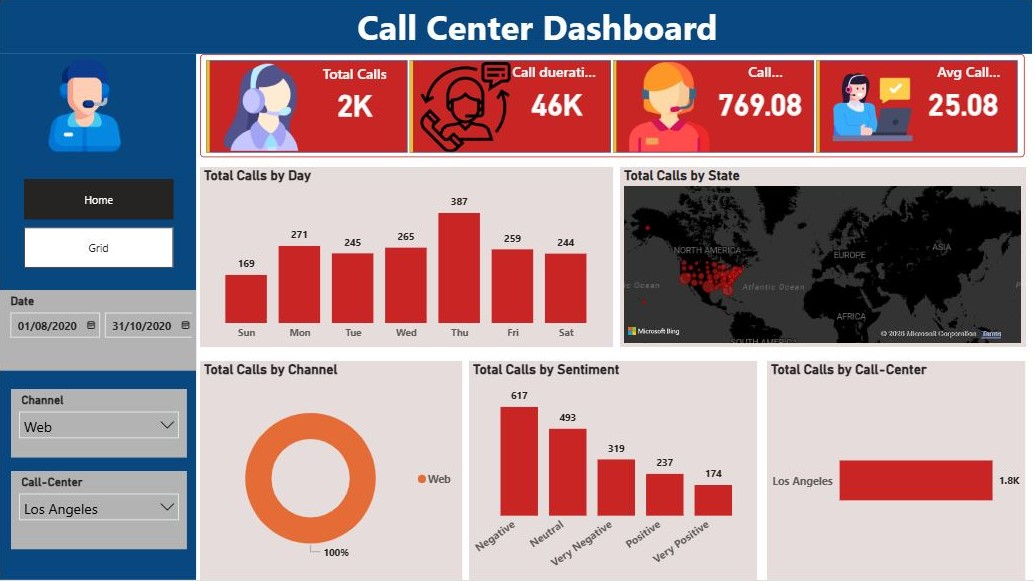

What the dashboard file says about the page in this screenshot:
{"tool":"powerbi","page":{"name":"Home","canvas":[1280,720],"ordinal":0},"visuals":[{"type":"shape","box":[0,0,1280,68.3],"z":0},{"type":"shape","box":[0,68.3,243.2,651.7],"z":1000},{"type":"cardVisual","fields":{"Data":["Call Center_Call Center.Total Calls","Call Center_Call Center.Call dueration (Min)","Call Center_Call Center.Total Call duration(Hrs)","Call Center_Call Center.Avg Call Duration (Min)"]},"box":[248.3,68.3,1021.7,128.3],"z":2000},{"type":"textbox","box":[301.7,0,730,85],"z":3000},{"type":"columnChart","fields":{"Y":["Call Center_Call Center.Total Calls"],"Category":["Date Table.Day"]},"box":[248.3,208.3,511.7,223.3],"z":4000},{"type":"map","fields":{"Category":["Call Center_Call Center.State"],"Size":["Call Center_Call Center.Total Calls"]},"box":[768.3,208.3,501.7,223.3],"z":5000},{"type":"donutChart","fields":{"Category":["Call Center_Call Center.Channel"],"Y":["Call Center_Call Center.Total Calls"]},"box":[248.3,448.3,325,271.7],"z":6000},{"type":"columnChart","fields":{"Category":["Call Center_Call Center.Sentiment"],"Y":["Call Center_Call Center.Total Calls"]},"box":[581.7,448.3,356.7,271.7],"z":7000},{"type":"barChart","fields":{"Category":["Call Center_Call Center.Call-Center"],"Y":["Call Center_Call Center.Total Calls"]},"box":[950,448.3,320,271.7],"z":8000},{"type":"image","box":[43.3,68.3,123.3,128.3],"z":9000},{"type":"pageNavigator","box":[30,223.3,185,111.7],"z":10000},{"type":"slicer","fields":{"Values":["Date Table.Date"]},"box":[0,360,243.3,100],"z":11000},{"type":"slicer","fields":{"Values":["Call Center_Call Center.Channel"]},"box":[13.3,483.3,218.3,85],"z":12000},{"type":"slicer","fields":{"Values":["Call Center_Call Center.Call-Center"]},"box":[13.3,585,218.3,96.7],"z":13000}]}

Visuals, with their boxes in screenshot pixels (x1, y1, x2, y2), scaled from the page's 1280x720 canvas onto the 1034x581 screenshot:
shape: 0:0:1033:55
shape: 0:55:196:580
cardVisual - Call Center_Call Center.Total Calls x Call Center_Call Center.Call dueration (Min): 201:55:1026:159
textbox: 244:0:833:69
columnChart - Call Center_Call Center.Total Calls x Date Table.Day: 201:168:614:348
map - Call Center_Call Center.State x Call Center_Call Center.Total Calls: 621:168:1026:348
donutChart - Call Center_Call Center.Channel x Call Center_Call Center.Total Calls: 201:362:463:580
columnChart - Call Center_Call Center.Sentiment x Call Center_Call Center.Total Calls: 470:362:758:580
barChart - Call Center_Call Center.Call-Center x Call Center_Call Center.Total Calls: 767:362:1026:580
image: 35:55:135:159
pageNavigator: 24:180:174:270
slicer - Date Table.Date: 0:290:197:371
slicer - Call Center_Call Center.Channel: 11:390:187:459
slicer - Call Center_Call Center.Call-Center: 11:472:187:550
